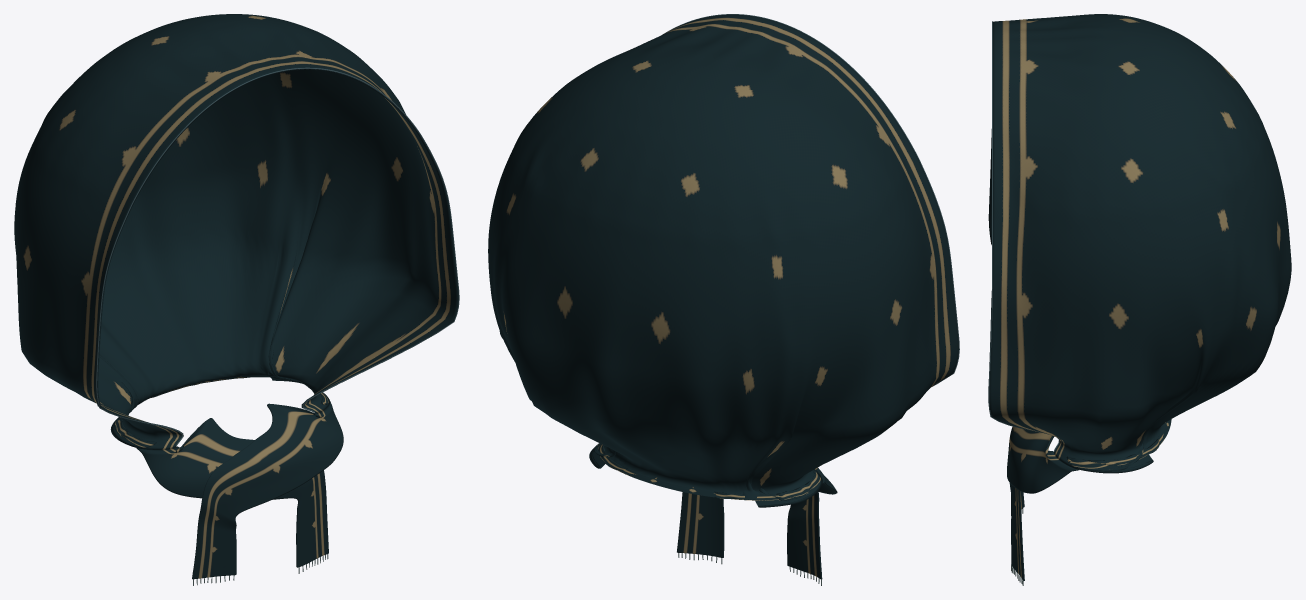
Rendered from Masculine-sweatshirt-pashmina236-headgear.glb.
3 renders of one model, left to right at view 1: azimuth 30°, elevation 25°; view 2: azimuth 150°, elevation 25°; view 3: azimuth 270°, elevation 25°, orthographic. The views are drawn at different scales.
Parts seen in each view (by area): view 1: 226 headgear / Headwear / continuous woven pashmina236, 226 headgear / Headwear / face edge236; view 2: 226 headgear / Headwear / continuous woven pashmina236, 226 headgear / Headwear / face edge236; view 3: 226 headgear / Headwear / continuous woven pashmina236, 226 headgear / Headwear / face edge236.
Part boxes in pixels (bbox=[...]): 226 headgear / Headwear / continuous woven pashmina236: bbox=[14, 14, 458, 579]; 226 headgear / Headwear / face edge236: bbox=[96, 67, 459, 445]; 226 headgear / Headwear / continuous woven pashmina236: bbox=[488, 14, 958, 579]; 226 headgear / Headwear / face edge236: bbox=[664, 14, 959, 386]; 226 headgear / Headwear / continuous woven pashmina236: bbox=[988, 14, 1291, 580]; 226 headgear / Headwear / face edge236: bbox=[988, 21, 1059, 450].
Size of the model in its own units: 1.03 by 1.35 by 0.7127.
Materials: 3 (1 with a texture image).
